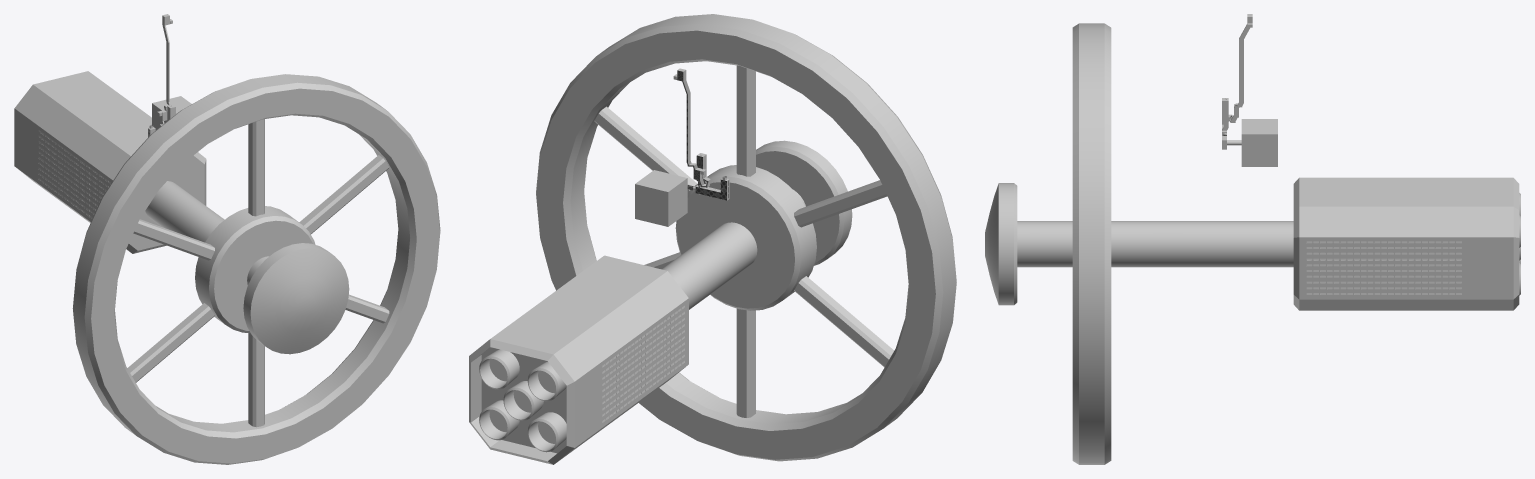
The model's file is Spaceship.fbx.
3 renders of one model, left to right at view 1: azimuth 30°, elevation 25°; view 2: azimuth 150°, elevation 25°; view 3: azimuth 270°, elevation 25°, orthographic. The views are drawn at different scales.
Visible parts, largest first — view 1: Spaceship_Neck, Spaceship_Box, Spaceship_Head, Spaceship_Pipe, StarBossRoom.001; view 2: Spaceship_Neck, Spaceship_Box, Spaceship_Head, Spaceship_Pipe, StarBossRoom.001; view 3: Spaceship_Box, Spaceship_Neck, Spaceship_Pipe, Spaceship_Head, Spaceship_Pipe.001, StarBossRoom.001.
Boxes of the visible parts, box(x1,y1,x2,y2) form: Spaceship_Neck: box(72, 74, 440, 464); Spaceship_Box: box(14, 71, 206, 253); Spaceship_Head: box(243, 243, 349, 354); Spaceship_Pipe: box(145, 181, 224, 242); StarBossRoom.001: box(152, 96, 191, 130); Spaceship_Neck: box(536, 14, 956, 461); Spaceship_Box: box(469, 255, 688, 464); Spaceship_Head: box(756, 140, 852, 265); Spaceship_Pipe: box(662, 222, 757, 309); StarBossRoom.001: box(635, 170, 687, 226); Spaceship_Box: box(1293, 177, 1520, 310); Spaceship_Neck: box(1072, 23, 1111, 464); Spaceship_Pipe: box(1111, 221, 1293, 267); Spaceship_Head: box(985, 183, 1017, 305); Spaceship_Pipe.001: box(1017, 221, 1072, 267); StarBossRoom.001: box(1241, 119, 1277, 166).
Bounding box in the file's own units: 309 × 324 × 375.
